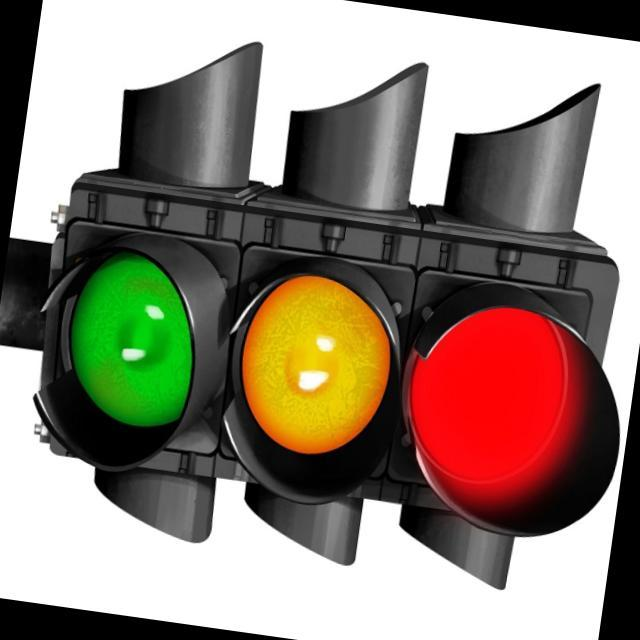green: (59, 249, 210, 447)
red: (409, 295, 607, 527)
